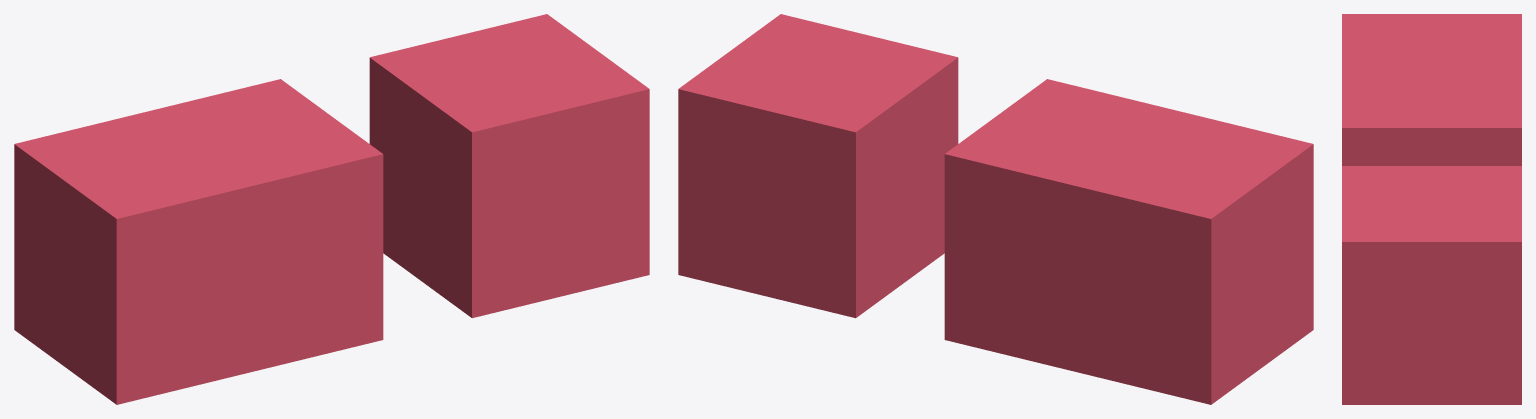
The picture shows the model from 3 angles, left to right: view 1: azimuth 30°, elevation 25°; view 2: azimuth 150°, elevation 25°; view 3: azimuth 270°, elevation 25°; orthographic projection. The views are drawn at different scales.
Parts seen in each view (by area): view 1: Cube, Cube.001; view 2: Cube, Cube.001; view 3: Cube.001, Cube.
Boxes of the visible parts, x1=… form: Cube: x1=14, y1=79, x2=383, y2=404; Cube.001: x1=369, y1=14, x2=649, y2=318; Cube: x1=944, y1=79, x2=1313, y2=404; Cube.001: x1=678, y1=14, x2=958, y2=318; Cube.001: x1=1342, y1=166, x2=1521, y2=404; Cube: x1=1342, y1=14, x2=1521, y2=165.
Bounding box in the file's own units: 6 × 2 × 2.
